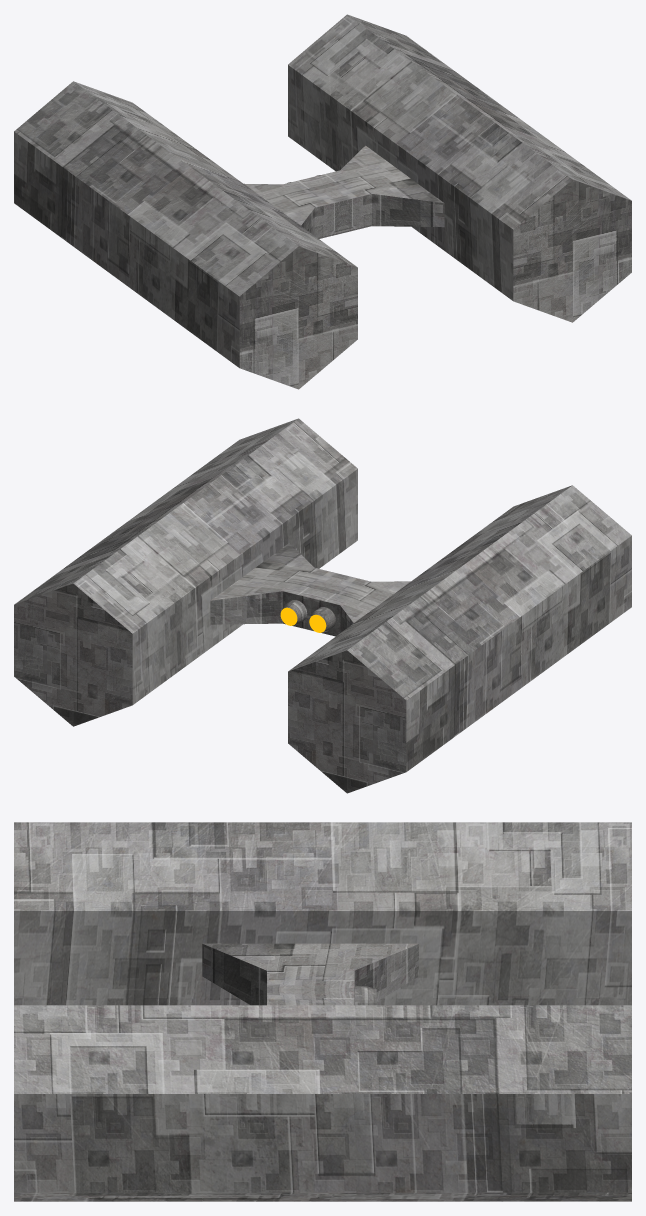
File: apis.glb
The picture shows the model from 3 angles, top to bottom: view 1: azimuth 30°, elevation 25°; view 2: azimuth 150°, elevation 25°; view 3: azimuth 270°, elevation 25°; orthographic projection. The views are drawn at different scales.
Visible parts, largest first — view 1: Apis; view 2: Apis; view 3: Apis.
Part boxes in pixels (box(x1,y1,x2,y2)): Apis: box(14, 14, 631, 389); Apis: box(14, 418, 631, 793); Apis: box(14, 822, 631, 1201).
Bounding box in the file's own units: 5.73 × 2 × 5.71.
2 materials, 1 textured.
